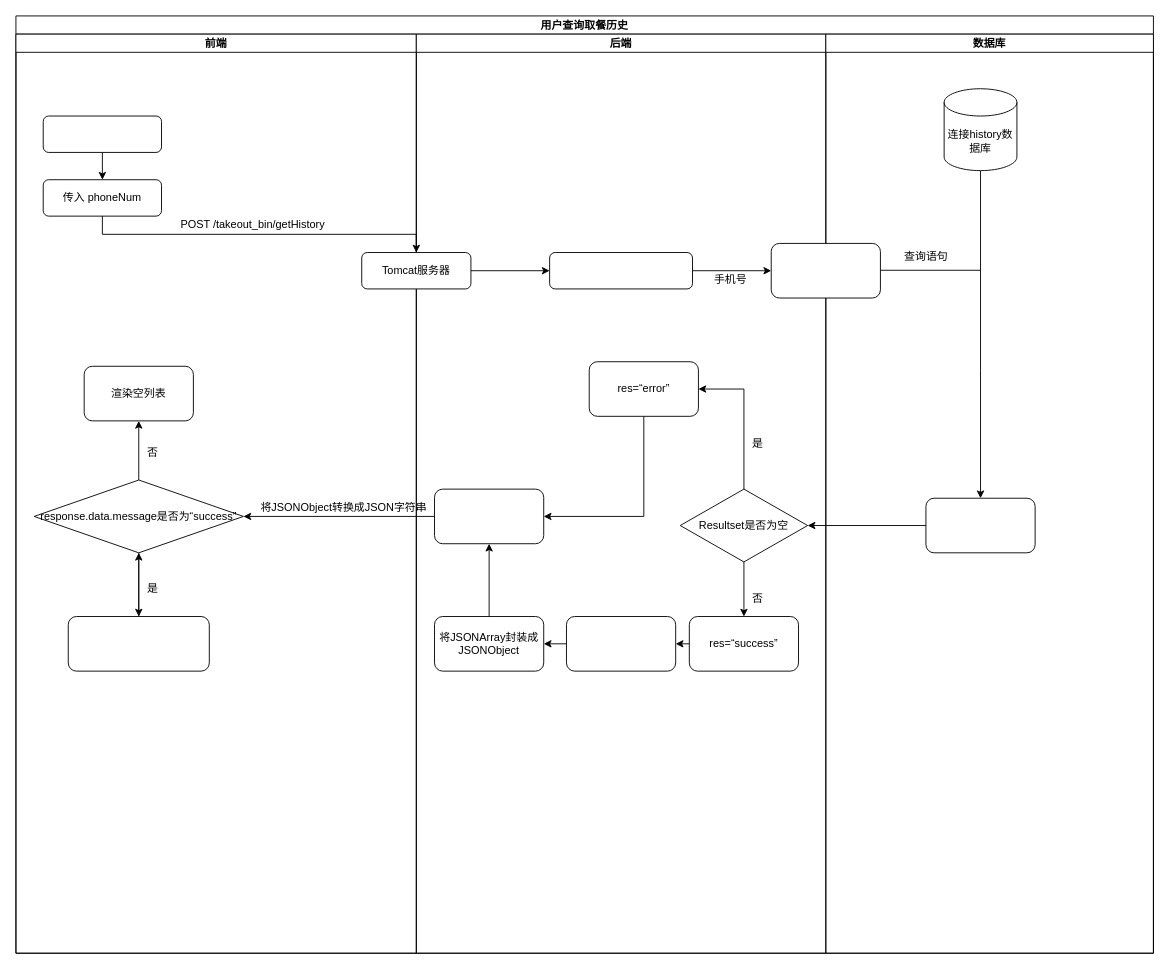
Some shapes in this 1169 by 969 pixel diagram are drawn without their labels. The shapes that lost their labels are listed below. From the top down, each one's centre as x and y in pixels, then its label:
At [102,133]: "选择查询历史取餐记录功能，并输入手机号".
At [621,270]: "自定义jsonReader读取json为Java对象并获取关键数据".
At [825,270]: "JDBC driver".
At [489,516]: "将res封装到JSONObject".
At [980,525]: "得到查询结果集".
At [138,643]: "将获取的用户取餐数据通过tableData展示在页面".
At [621,643]: "遍历结果集，将用户手机号对应的记录每一个元素存到JSONArray".
